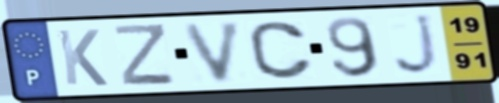9: (324, 15, 383, 80)
C: (245, 19, 317, 82)
J: (392, 11, 443, 77)
K: (54, 27, 111, 88)
V: (180, 18, 248, 85)
Z: (112, 21, 178, 87)
